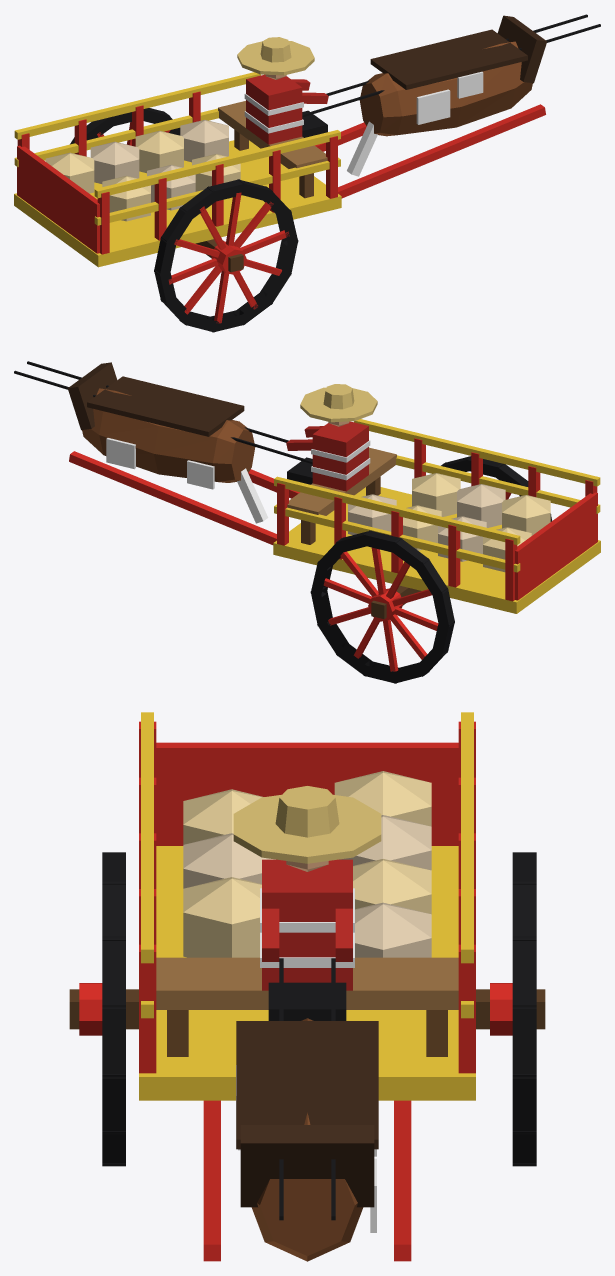
File: carreta_overo_body.obj
The picture shows the model from 3 angles, top to bottom: view 1: azimuth 30°, elevation 25°; view 2: azimuth 150°, elevation 25°; view 3: azimuth 270°, elevation 25°; orthographic projection. The views are drawn at different scales.
Parts seen in each view (by area): view 1: carreta_overo_body; view 2: carreta_overo_body; view 3: carreta_overo_body.
Part boxes in pixels (bbox=[...]): carreta_overo_body: bbox=[14, 14, 600, 332]; carreta_overo_body: bbox=[14, 361, 600, 683]; carreta_overo_body: bbox=[69, 712, 545, 1261].
Size of the model in its own units: 5.75 by 2.29 by 2.2.
